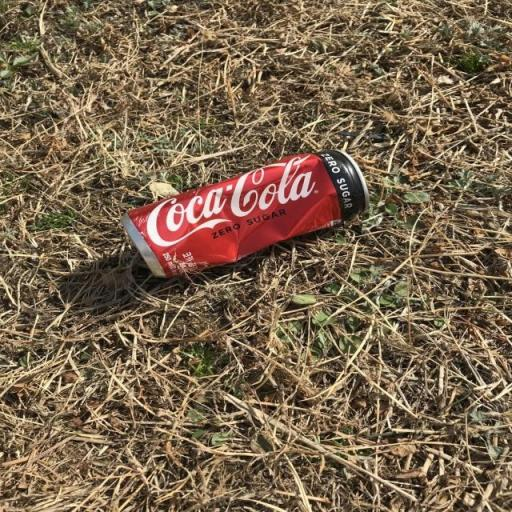metal: (96, 133, 390, 295)
